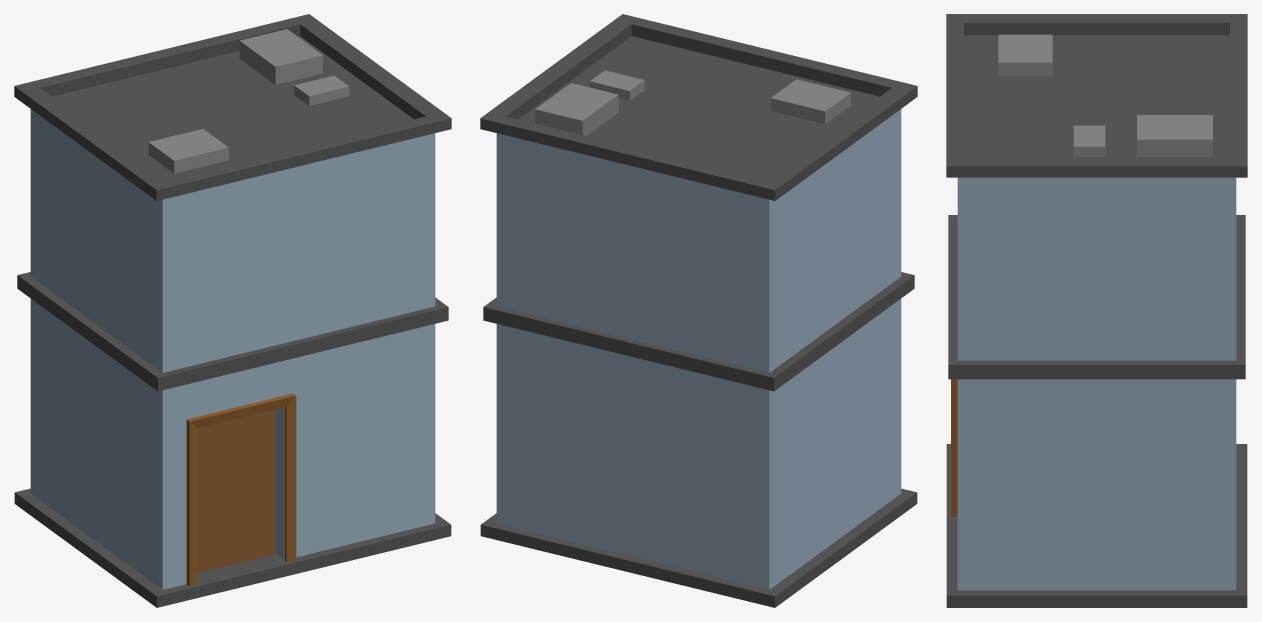
The model's file is Edificio_prueba.glb.
3 renders of one model, left to right at view 1: azimuth 30°, elevation 25°; view 2: azimuth 150°, elevation 25°; view 3: azimuth 270°, elevation 25°, orthographic. The views are drawn at different scales.
Parts seen in each view (by area): view 1: Cube; view 2: Cube; view 3: Cube.
Part boxes in pixels (x1,y1,x2,y2): Cube: (14, 14, 451, 607); Cube: (480, 14, 917, 607); Cube: (946, 14, 1247, 607).
Size of the model in its own units: 5.78 by 7.94 by 4.84.
